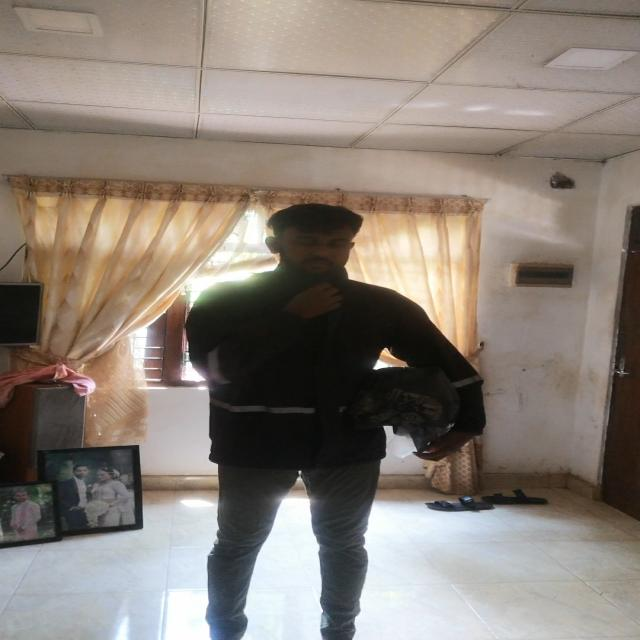Jacket_Wearer: (178, 262, 486, 483)
Person: (176, 185, 486, 640)
